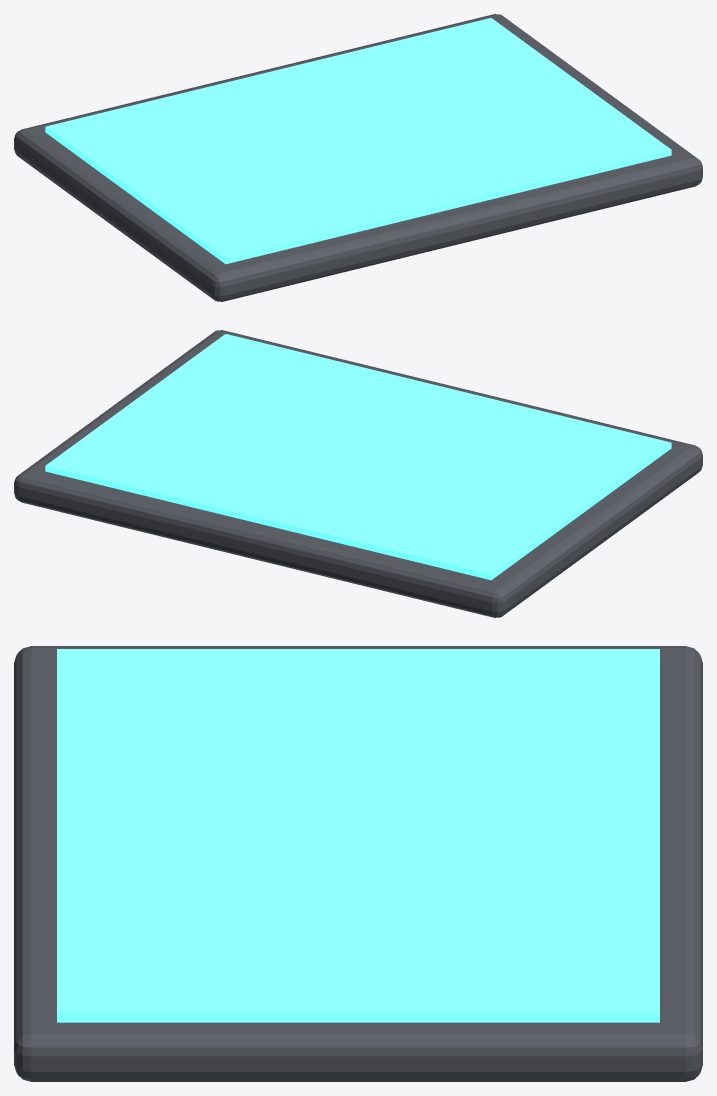
Rendered from datapad_tablet.glb.
3 views of the same model, one above another, from view 1: azimuth 30°, elevation 25°; view 2: azimuth 150°, elevation 25°; view 3: azimuth 270°, elevation 25° (orthographic). The views are drawn at different scales.
Visible parts, largest first — view 1: GD_datapad_tablet__m1, GD_datapad_tablet__m0; view 2: GD_datapad_tablet__m1, GD_datapad_tablet__m0; view 3: GD_datapad_tablet__m1, GD_datapad_tablet__m0.
Part boxes in pixels (<box>): GD_datapad_tablet__m1: <box>45,18,671,264</box>; GD_datapad_tablet__m0: <box>14,14,702,301</box>; GD_datapad_tablet__m1: <box>45,334,671,580</box>; GD_datapad_tablet__m0: <box>14,330,702,617</box>; GD_datapad_tablet__m1: <box>57,649,659,1022</box>; GD_datapad_tablet__m0: <box>14,646,702,1081</box>.
Size of the model in its own units: 0.22 by 0.0145 by 0.16.
